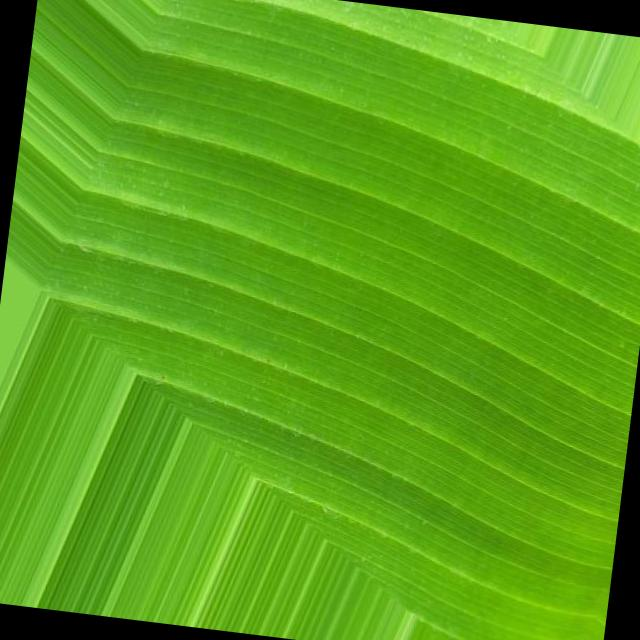Banana_Healthy: (100, 19, 640, 457)
